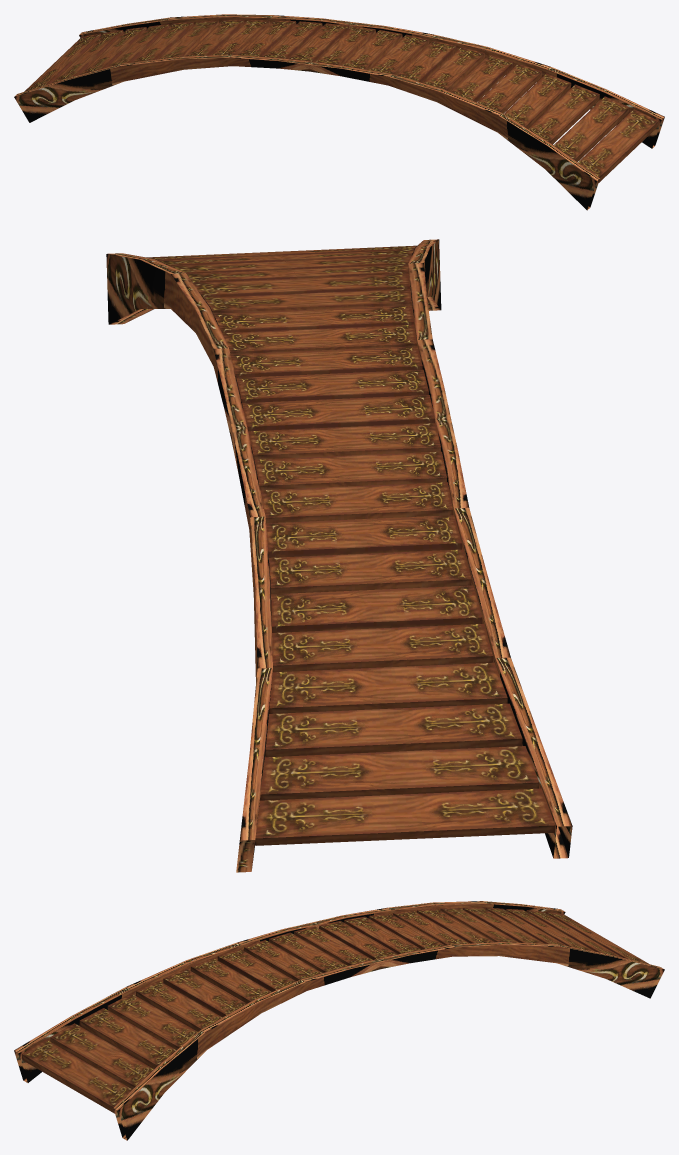
The model's file is EKH_THRONE_PS_TH_SIDEBRIDGE76__GX.obj.
3 renders of one model, top to bottom at view 1: azimuth 30°, elevation 25°; view 2: azimuth 150°, elevation 25°; view 3: azimuth 270°, elevation 25°, orthographic. The views are drawn at different scales.
Parts seen in each view (by area): view 1: ideBridge76__GX; view 2: ideBridge76__GX; view 3: ideBridge76__GX.
Boxes of the visible parts, left/top/right/bottom form: ideBridge76__GX: left=14, top=14, right=664, bottom=210; ideBridge76__GX: left=106, top=239, right=572, bottom=872; ideBridge76__GX: left=14, top=901, right=664, bottom=1140.
Bounding box in the file's own units: 572 × 124 × 689.
